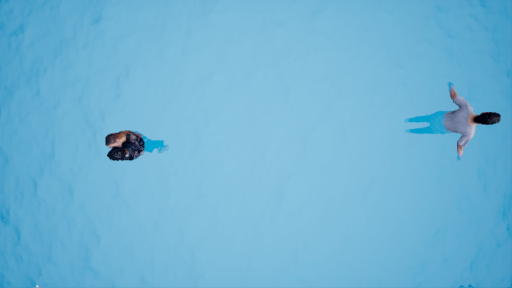person: (405, 79, 500, 168), (97, 126, 170, 167)
